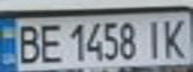1: (63, 20, 87, 62)
4: (84, 19, 106, 62)
5: (103, 19, 124, 62)
8: (118, 19, 142, 61)
B: (12, 21, 42, 65)
E: (36, 20, 63, 64)
I: (139, 16, 169, 60)
K: (157, 15, 193, 60)
